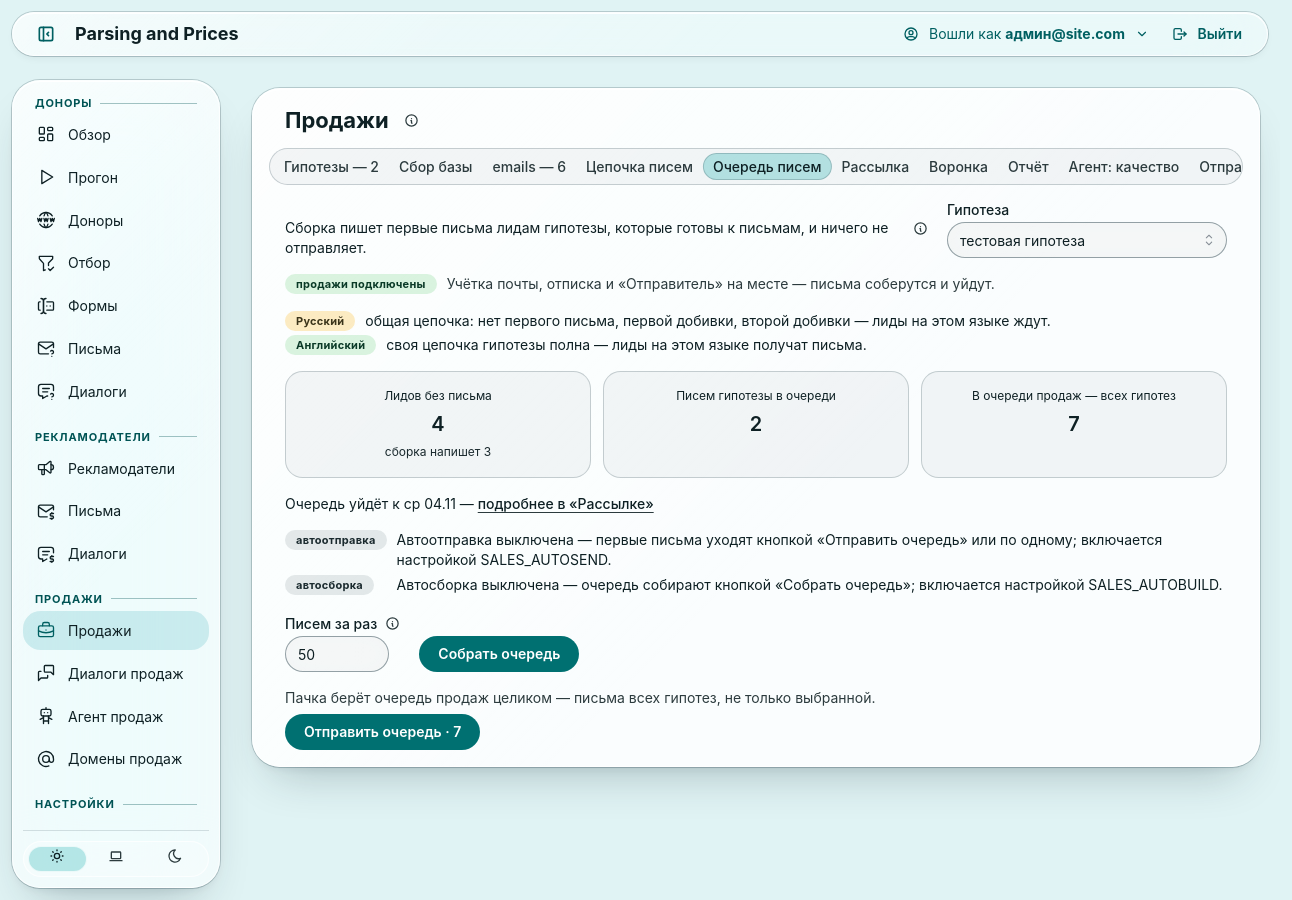
Test: очередь писем продаж › «Писем за раз» — поле по числу, а не 180 px (аудит 09.10.2026)
The width and height of the screenshot is (1292, 900).
Check: the text "Лидов без письма" is shown, box x1=384 y1=388 x2=492 y2=405
Check: the text "Каждое стоит вызова модели" is not shown
Hover over the button named "Что значит «Писем за раз»".
mouse_move(392, 624)  # box x1=381 y1=613 x2=403 y2=635
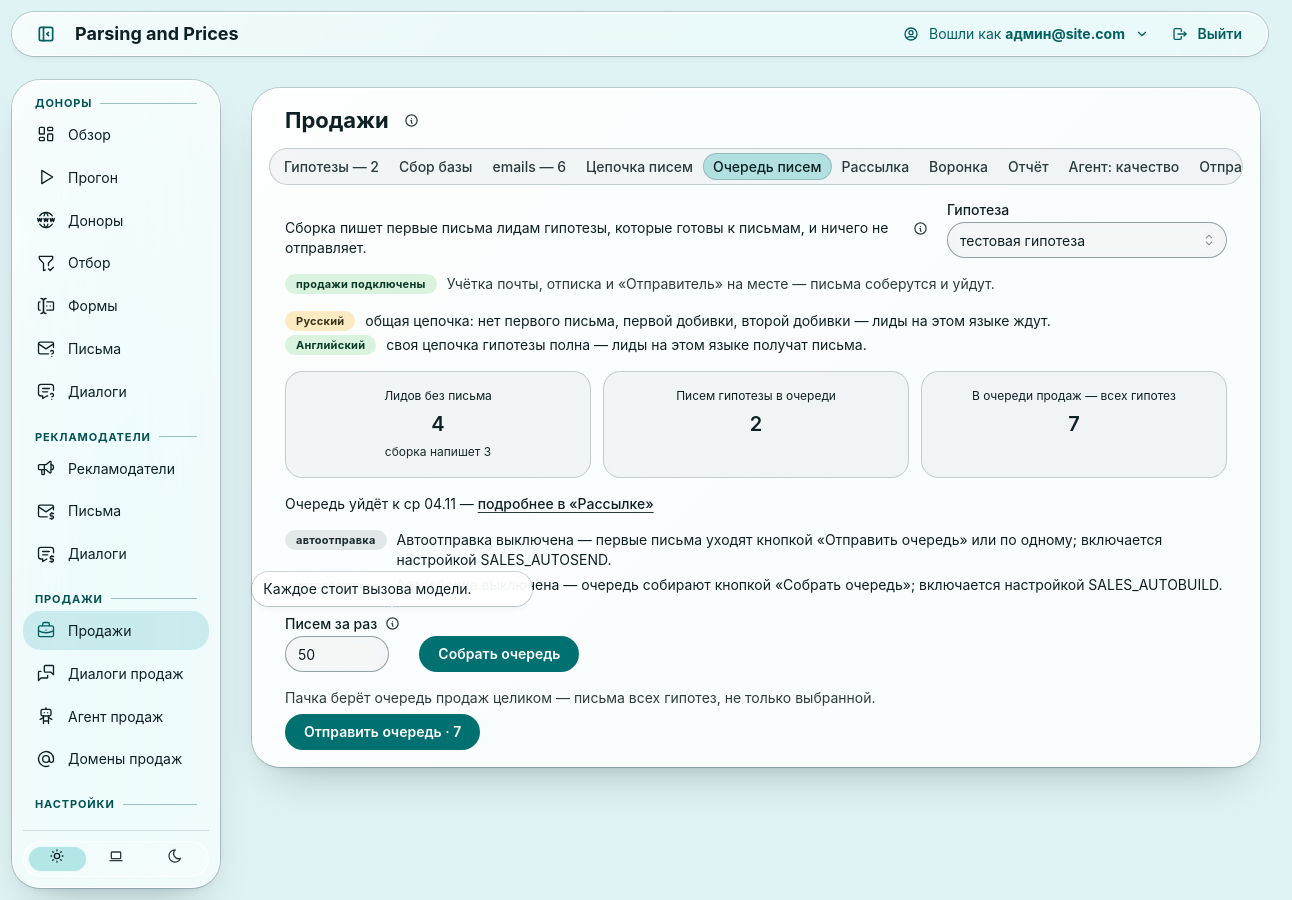
Check: the tooltip "Каждое стоит вызова модели." is shown, box x1=252 y1=572 x2=532 y2=606
